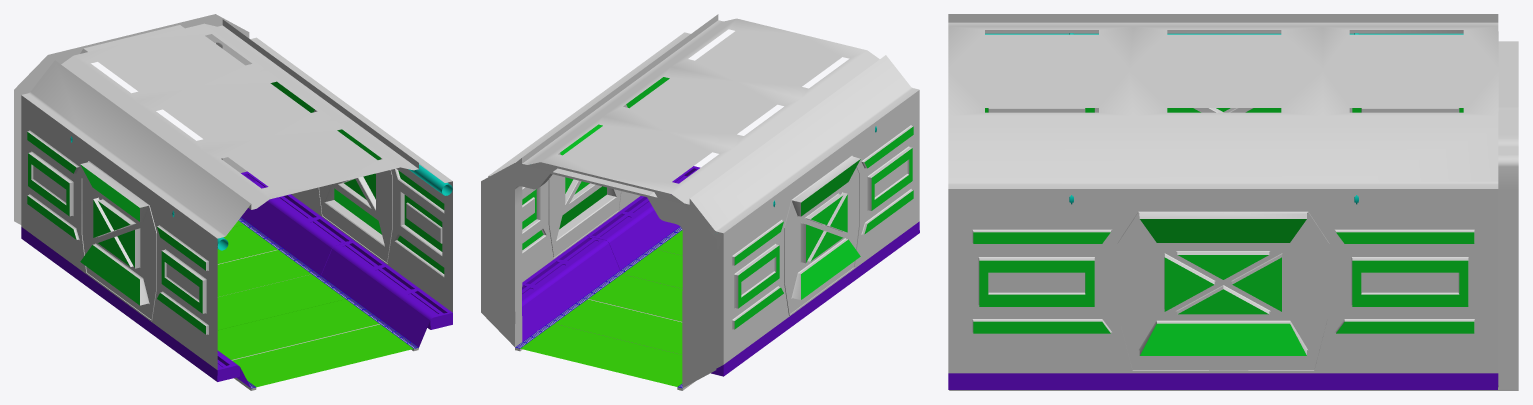
Rendered from straight_tunnel.fbx.
3 renders of one model, left to right at view 1: azimuth 30°, elevation 25°; view 2: azimuth 150°, elevation 25°; view 3: azimuth 270°, elevation 25°, orthographic. The views are drawn at different scales.
Parts seen in each view (by area): view 1: tunnel.002; view 2: tunnel.002; view 3: tunnel.002.
Part boxes in pixels (left/top/right/bottom): tunnel.002: left=14, top=14, right=452, bottom=390; tunnel.002: left=481, top=14, right=919, bottom=390; tunnel.002: left=948, top=14, right=1518, bottom=390.
Size of the model in its own units: 432 by 304 by 599.
